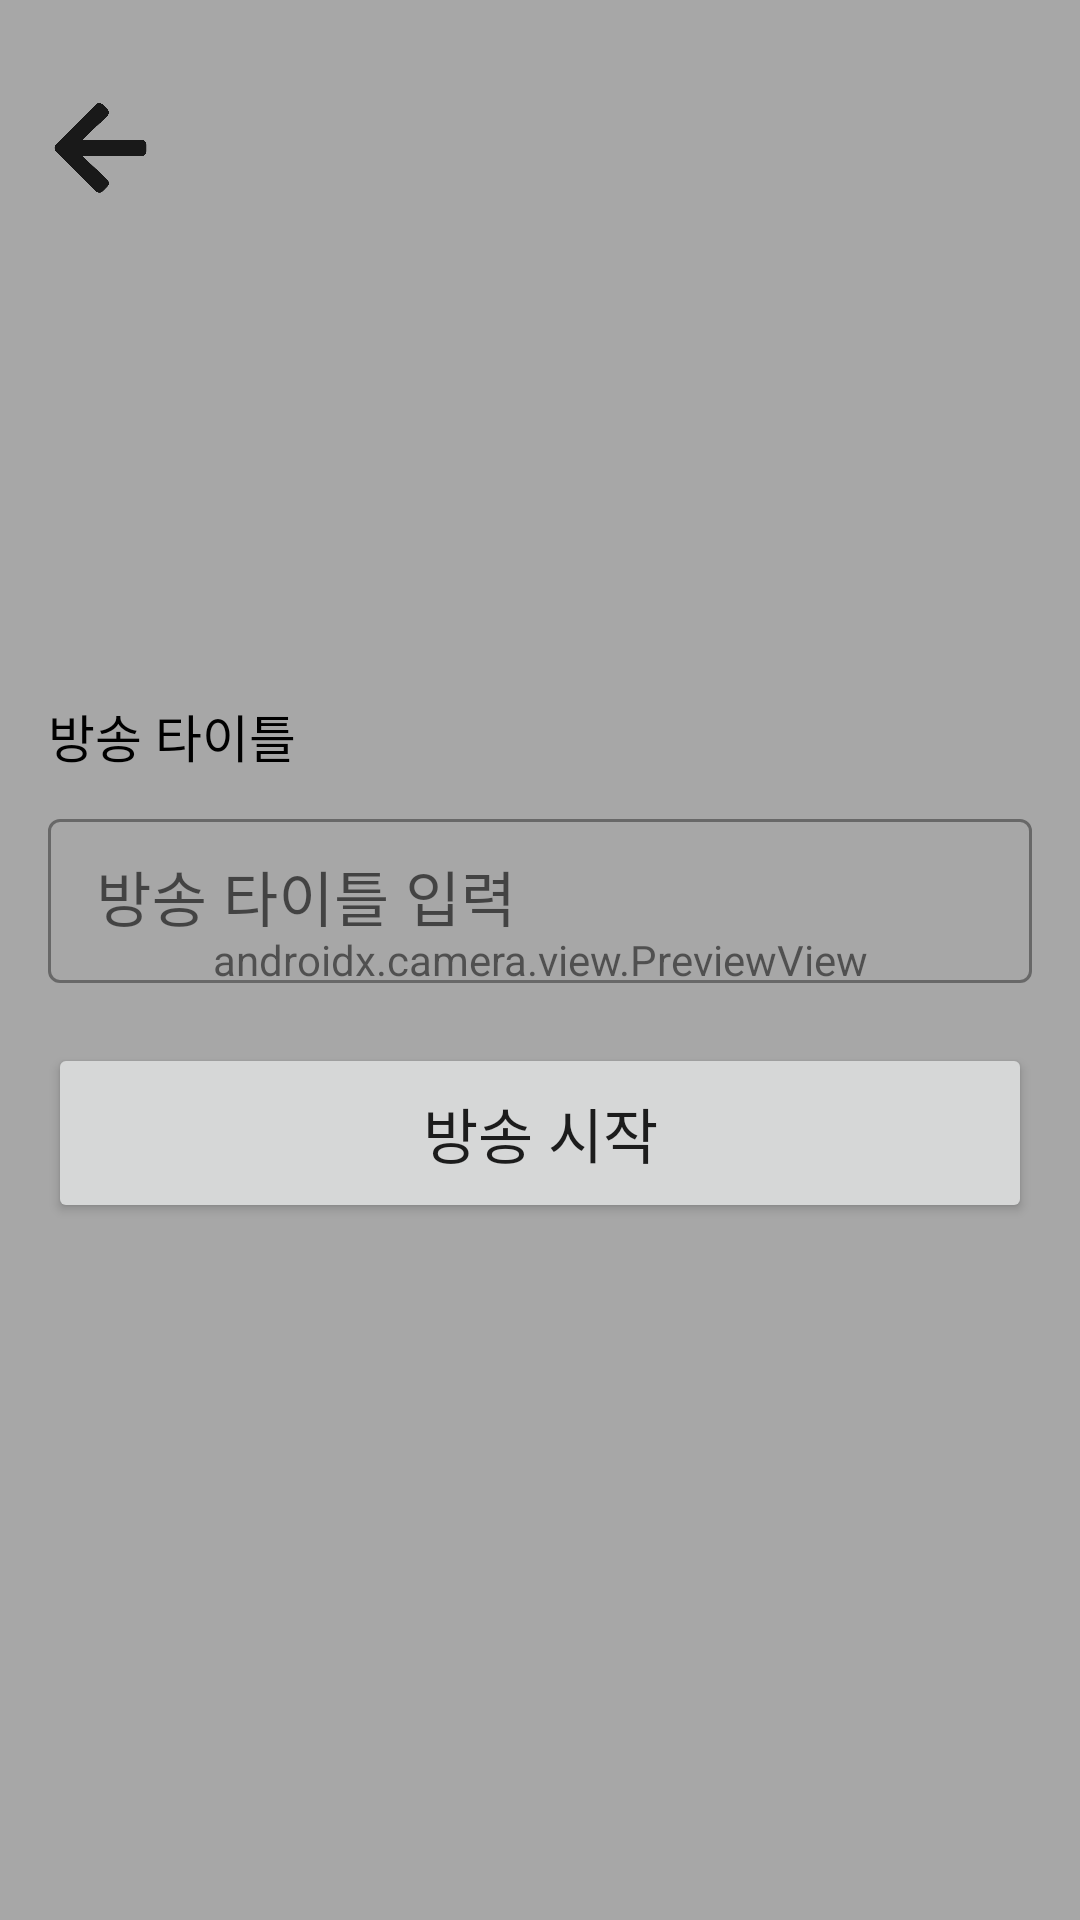

Named icons in this screenshot (1080 x 1920) and their bounding boxes, (x1, y1, x2, y2):
arrow left: (54, 103, 147, 193)
